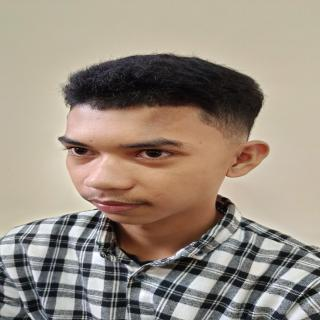Marah: (61, 101, 240, 228)
